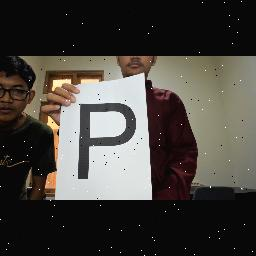p: (74, 102, 146, 188)
